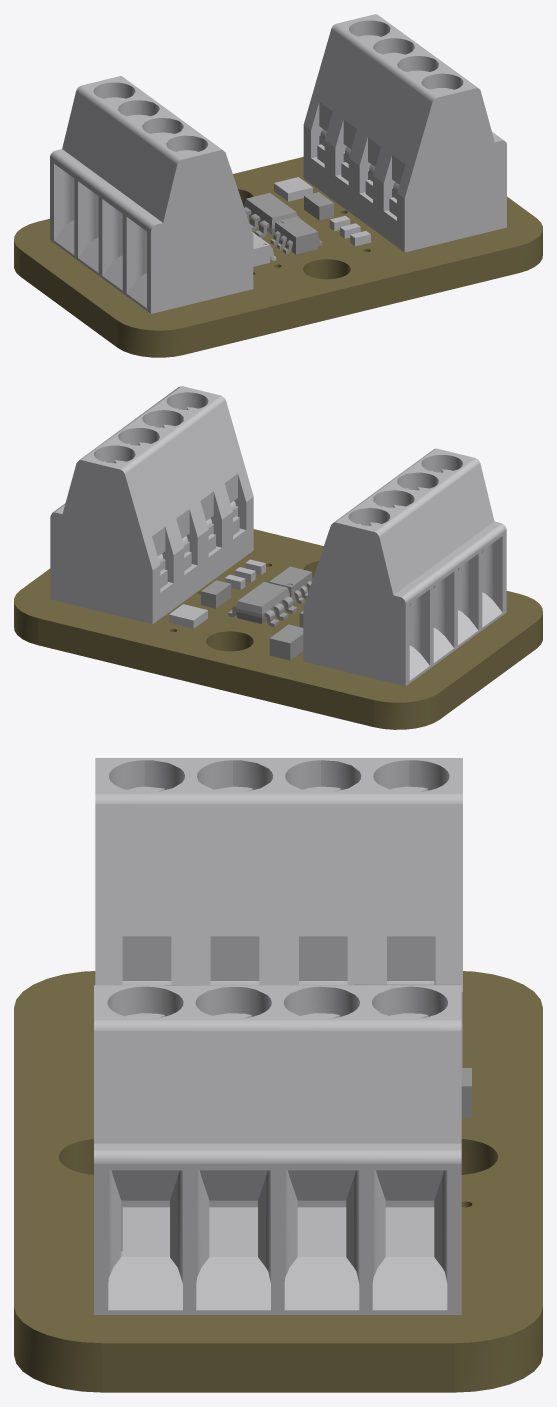
The model's file is ada-6066.glb.
3 renders of one model, top to bottom at view 1: azimuth 30°, elevation 25°; view 2: azimuth 150°, elevation 25°; view 3: azimuth 270°, elevation 25°, orthographic. The views are drawn at different scales.
Visible parts, largest first — view 1: 0.5833333333333334_0.5833333333333334_0.5833333333333334_0.8, 0.16666666666666666_0.16666666666666666_0.08333333333333333_, 0.3333333333333333_0.3333333333333333_0.3333333333333333_0; view 2: 0.5833333333333334_0.5833333333333334_0.5833333333333334_0.8, 0.16666666666666666_0.16666666666666666_0.08333333333333333_, 0.3333333333333333_0.3333333333333333_0.3333333333333333_0; view 3: 0.5833333333333334_0.5833333333333334_0.5833333333333334_0.8, 0.16666666666666666_0.16666666666666666_0.08333333333333333_.
Part boxes in pixels (x1,y1,x2,y2): 0.5833333333333334_0.5833333333333334_0.5833333333333334_0.8: [50, 14, 506, 313]; 0.16666666666666666_0.16666666666666666_0.08333333333333333_: [14, 157, 542, 357]; 0.3333333333333333_0.3333333333333333_0.3333333333333333_0: [244, 192, 333, 254]; 0.5833333333333334_0.5833333333333334_0.5833333333333334_0.8: [50, 386, 506, 686]; 0.16666666666666666_0.16666666666666666_0.08333333333333333_: [14, 529, 542, 729]; 0.3333333333333333_0.3333333333333333_0.3333333333333333_0: [201, 566, 312, 660]; 0.5833333333333334_0.5833333333333334_0.5833333333333334_0.8: [94, 758, 462, 1314]; 0.16666666666666666_0.16666666666666666_0.08333333333333333_: [14, 971, 542, 1392].
Size of the model in its own units: 2.54 by 1.2 by 1.52.
